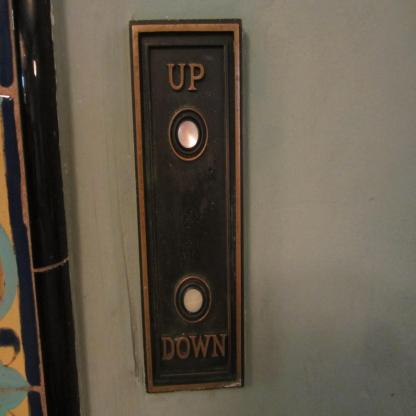empty: (167, 107, 209, 161), (172, 274, 212, 324)
